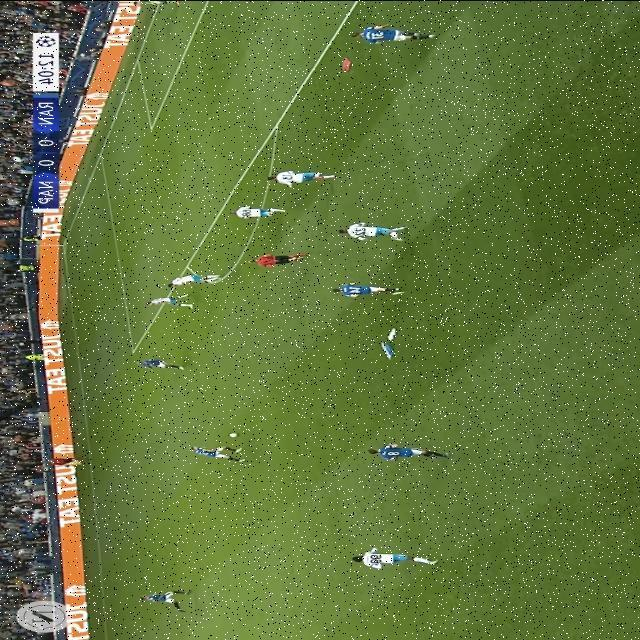ball: (227, 428, 241, 440)
player: (349, 547, 441, 571), (352, 22, 435, 46), (367, 442, 451, 462), (339, 222, 411, 244), (142, 583, 190, 614), (329, 280, 407, 298), (268, 168, 336, 186), (163, 269, 223, 287), (226, 203, 286, 219), (190, 445, 244, 460), (137, 356, 187, 371), (142, 295, 192, 309)
referee: (247, 250, 313, 266)
